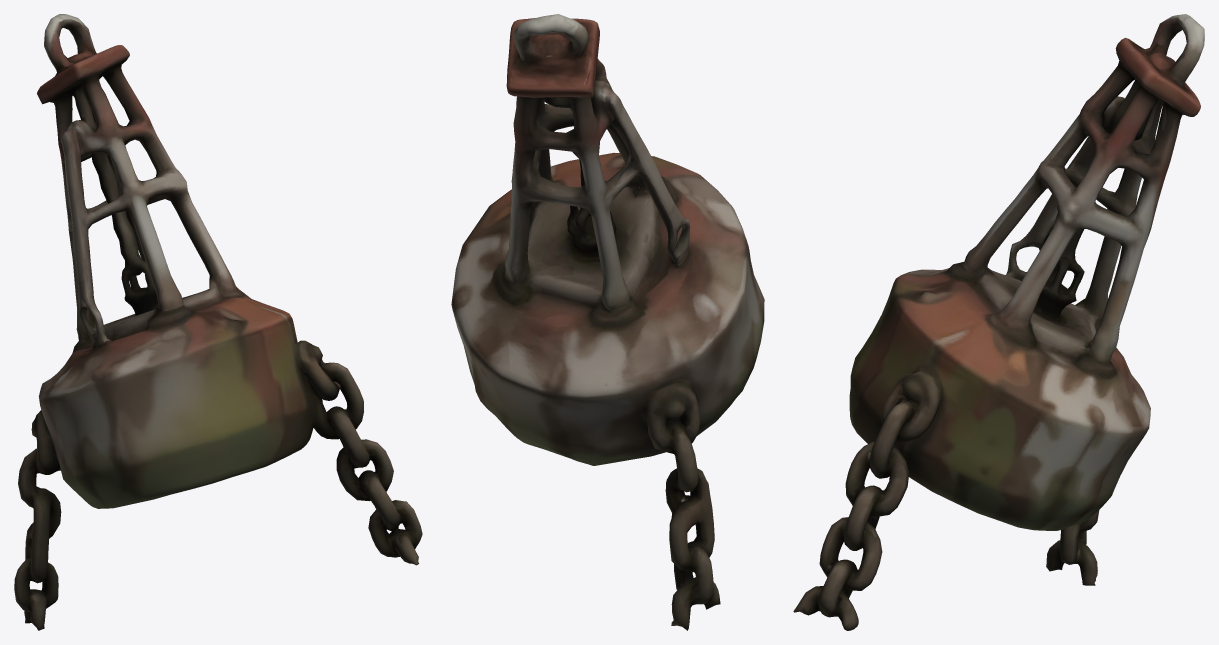
File: SM_Utileria_BoyaAmarreOxidada_01.fbx
The picture shows the model from 3 angles, left to right: view 1: azimuth 30°, elevation 25°; view 2: azimuth 150°, elevation 25°; view 3: azimuth 270°, elevation 25°; orthographic projection. The views are drawn at different scales.
Parts seen in each view (by area): view 1: SM_Utileria_BoyaAmarreOxidada_01; view 2: SM_Utileria_BoyaAmarreOxidada_01; view 3: SM_Utileria_BoyaAmarreOxidada_01.
Part boxes in pixels (left/top/right/bottom): SM_Utileria_BoyaAmarreOxidada_01: left=14, top=14, right=422, bottom=630; SM_Utileria_BoyaAmarreOxidada_01: left=451, top=14, right=764, bottom=630; SM_Utileria_BoyaAmarreOxidada_01: left=793, top=14, right=1204, bottom=630.
Bounding box in the file's own units: 0.5418 × 0.9902 × 0.6096.
Materials: 1 (1 with a texture image).
